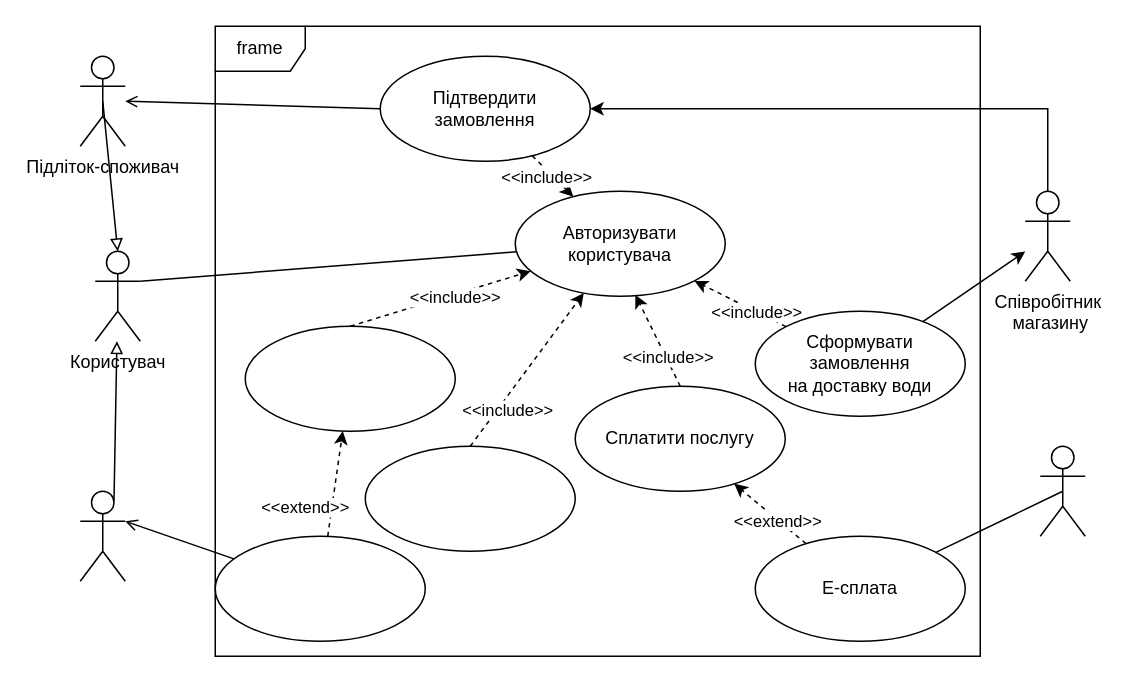
Some shapes in this 1143 by 683 pixel diagram are drawn without their labels. Here are the shapes that lost their labels. From the top down, the centre of each, then its label:
pixel 349 378: Зробити Online-дзвінок
pixel 469 498: Написати Online-повідомлення
pixel 1062 490: Сервіс Е-Pay
pixel 102 535: Вчитель з танців
pixel 319 588: Навчити танців
